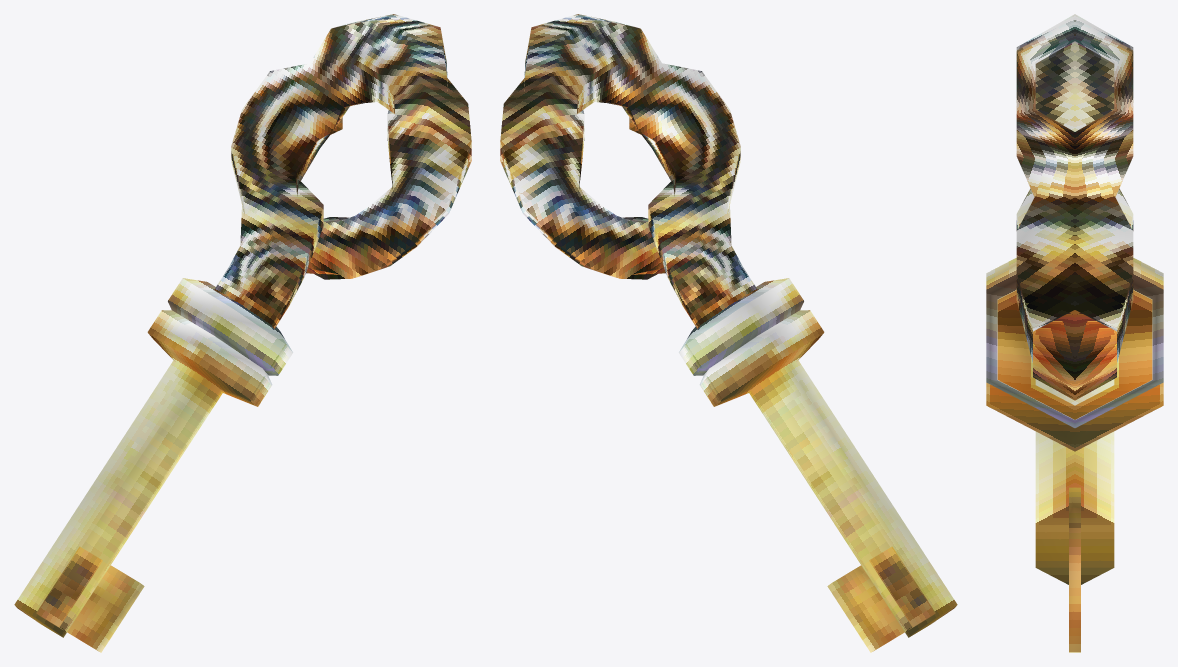
The model's file is ps2_save-icons_willowisp.glb.
3 renders of one model, left to right at view 1: azimuth 30°, elevation 25°; view 2: azimuth 150°, elevation 25°; view 3: azimuth 270°, elevation 25°, orthographic. The views are drawn at different scales.
Parts seen in each view (by area): view 1: SAVE.ICO; view 2: SAVE.ICO; view 3: SAVE.ICO.
Part boxes in pixels (bbox=[...]): SAVE.ICO: bbox=[14, 14, 471, 652]; SAVE.ICO: bbox=[500, 14, 957, 652]; SAVE.ICO: bbox=[986, 14, 1163, 652].
Size of the model in its own units: 2.98 by 3.56 by 0.7075.
1 material, 1 textured.
